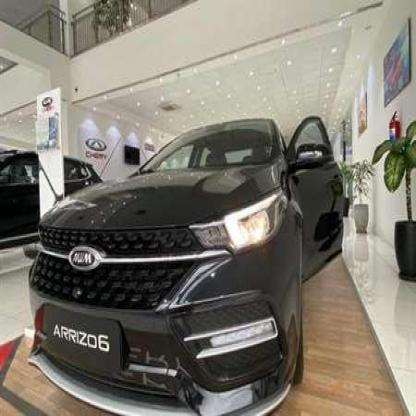Car: (23, 125, 322, 416), (0, 146, 111, 250)
